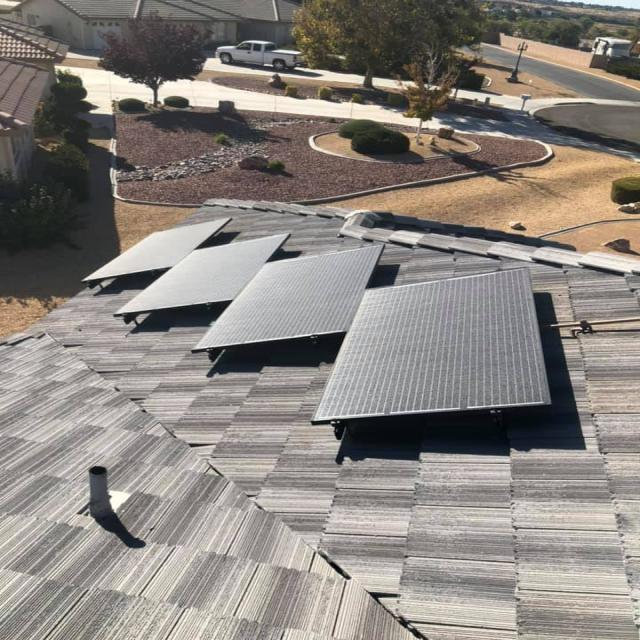dust-solar-panel: (312, 267, 549, 421)
